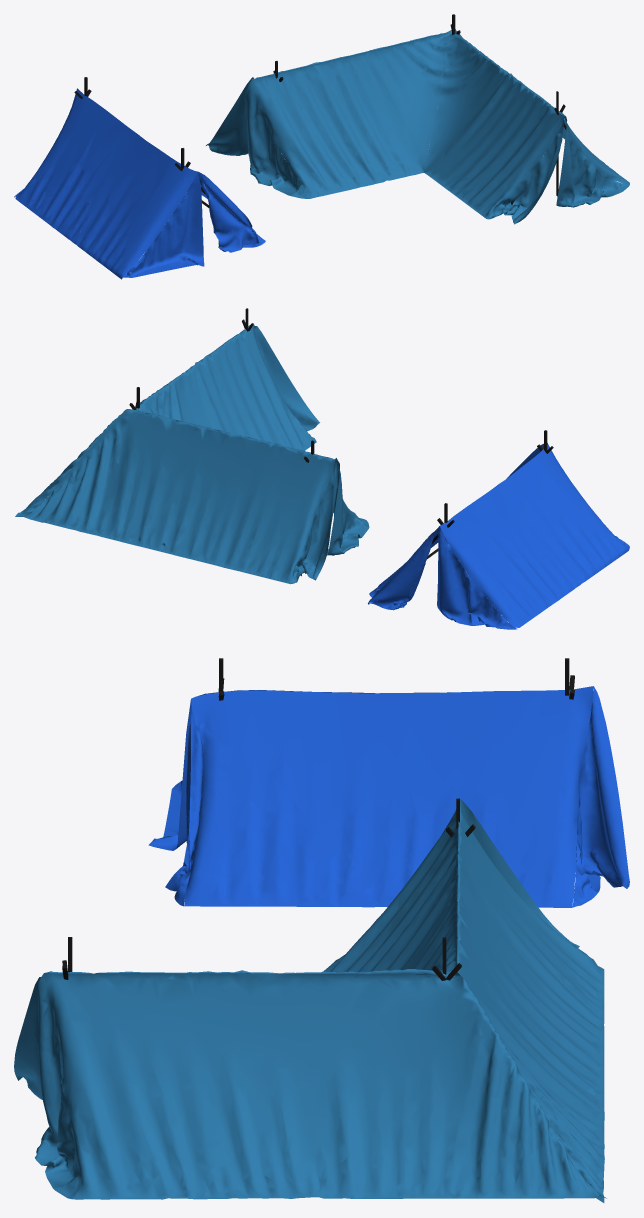
File: Campsite_Tent.FBX
3 views of the same model, one above another, from view 1: azimuth 30°, elevation 25°; view 2: azimuth 150°, elevation 25°; view 3: azimuth 270°, elevation 25° (orthographic). The views are drawn at different scales.
Visible parts, largest first — view 1: campsite_tent09, campsite_tent04; view 2: campsite_tent09, campsite_tent04; view 3: campsite_tent09, campsite_tent04.
Boxes of the visible parts, box(x1,y1,x2,y2) form: campsite_tent09: box(206, 14, 629, 224); campsite_tent04: box(14, 77, 265, 279); campsite_tent09: box(15, 308, 369, 584); campsite_tent04: box(368, 430, 629, 629); campsite_tent09: box(14, 798, 606, 1202); campsite_tent04: box(148, 658, 629, 907).
Bounding box in the file's own units: 6894 × 4281 × 1553.
